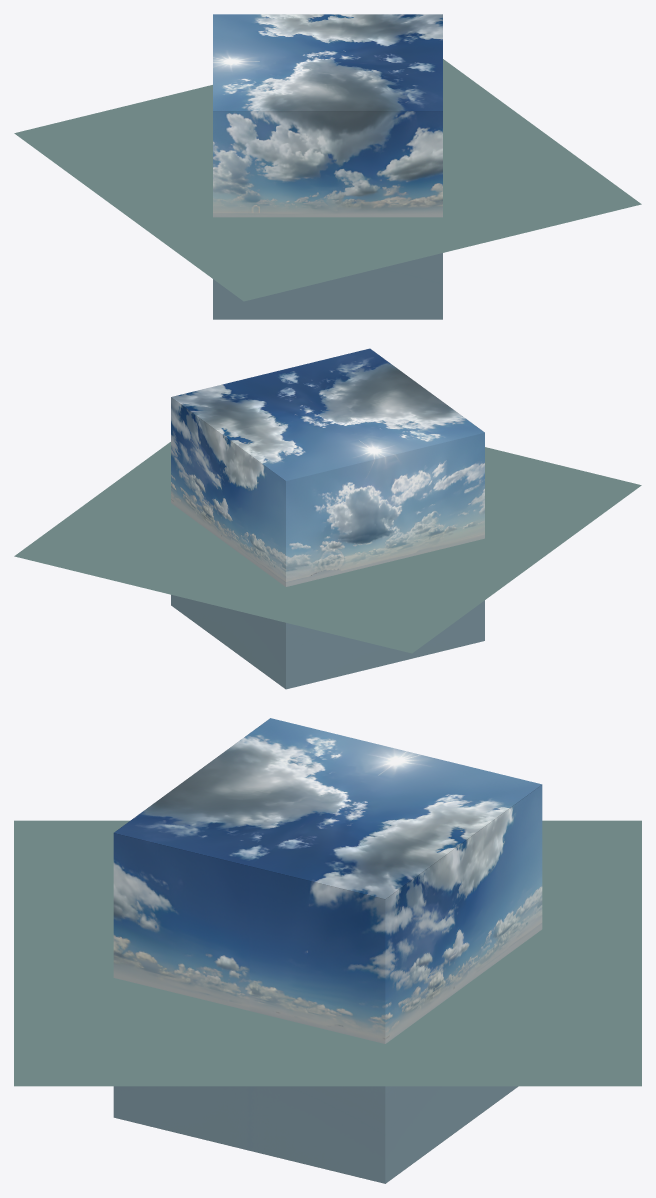
Rendered from vrsd_v1_textures_1_trees_apache_terrain.glb.
3 views of the same model, one above another, from view 1: azimuth 30°, elevation 25°; view 2: azimuth 150°, elevation 25°; view 3: azimuth 270°, elevation 25° (orthographic). The views are drawn at different scales.
Visible parts, largest first — view 1: SkyBox, Plane; view 2: SkyBox, Plane; view 3: SkyBox, Plane.
Boxes of the visible parts, x1,y1,x2,y2 form: SkyBox: (213, 14, 442, 319); Plane: (14, 59, 641, 301); SkyBox: (171, 348, 484, 689); Plane: (14, 442, 641, 653); SkyBox: (113, 718, 542, 1183); Plane: (14, 820, 641, 1086).
Bounding box in the file's own units: 10000 × 5000 × 10000.
Materials: 21 (3 with a texture image).
